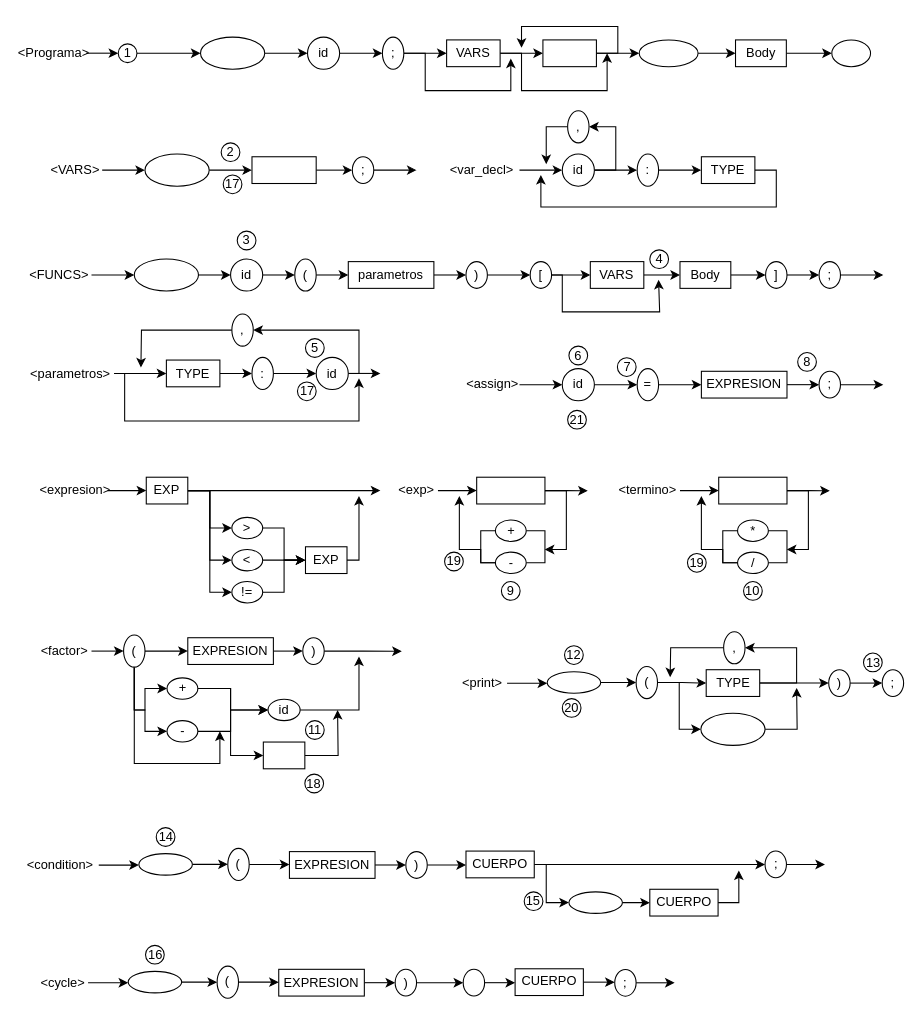
Some shapes in this 922 by 1018 pixel diagram are drawn without their labels. Each missing label, with the centre of its shape:
CTE: [283,755]
cte.string: [732,728]
do: [473,982]
else: [595,902]
end: [851,53]
FACTOR: [752,490]
FUNCS: [569,53]
if: [165,864]
main: [668,53]
Pogram: [232,52]
print: [573,682]
TERMINO: [510,490]
var: [176,169]
var_decl: [283,170]
void: [165,274]
while: [154,981]
